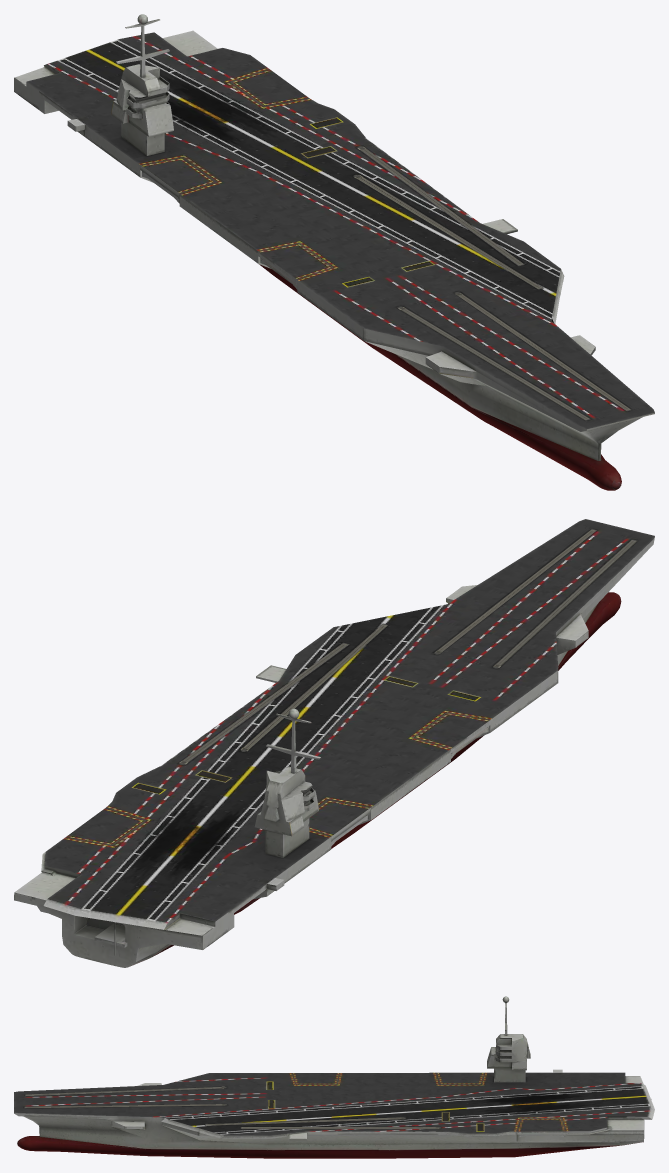
File: carrier.glb
The picture shows the model from 3 angles, top to bottom: view 1: azimuth 30°, elevation 25°; view 2: azimuth 150°, elevation 25°; view 3: azimuth 270°, elevation 25°; orthographic projection. The views are drawn at different scales.
Visible parts, largest first — view 1: Gerald Body_Gerald Ford_0; view 2: Gerald Body_Gerald Ford_0; view 3: Gerald Body_Gerald Ford_0.
Boxes of the visible parts, x1=… form: Gerald Body_Gerald Ford_0: x1=14, y1=14, x2=654, y2=490; Gerald Body_Gerald Ford_0: x1=14, y1=519, x2=654, y2=967; Gerald Body_Gerald Ford_0: x1=14, y1=996, x2=654, y2=1158.
Size of the model in its own units: 1336 by 1188 by 5290.
1 material, 1 textured.
